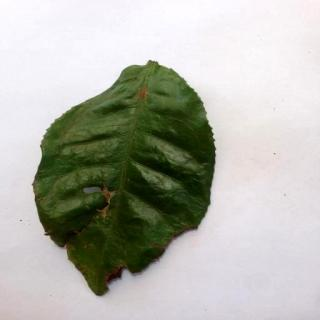Algal Leaf: (30, 63, 219, 299)
